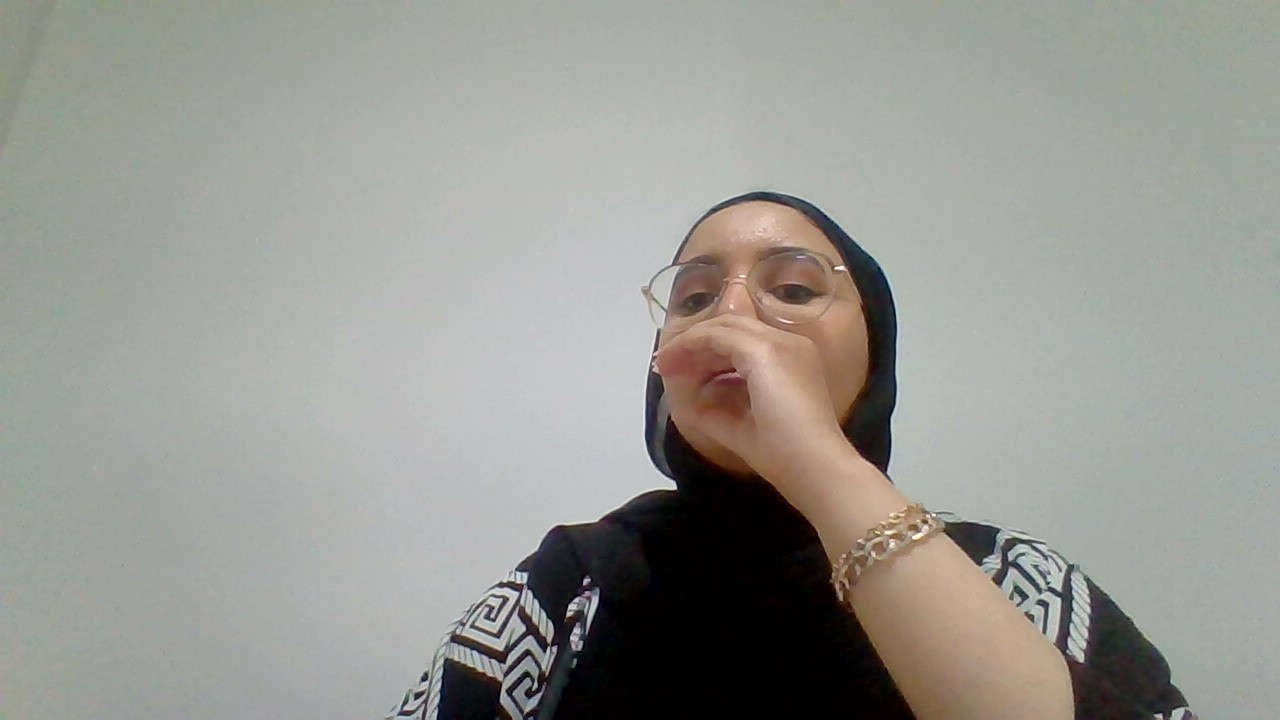drink: (645, 315, 839, 477)
